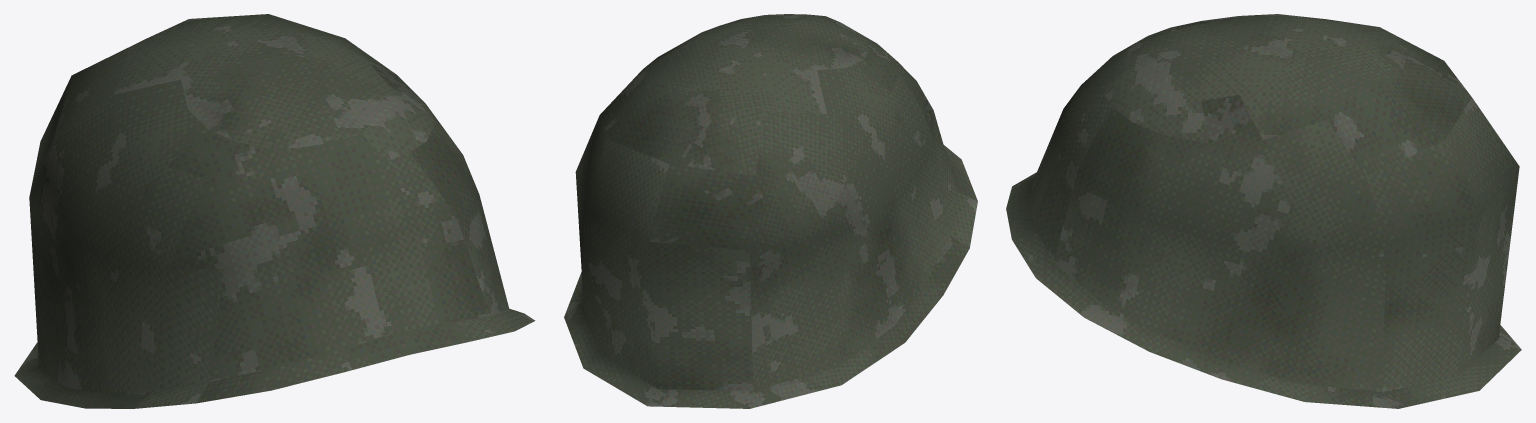
The model's file is helmet.glb.
3 views of the same model, side by side, from view 1: azimuth 30°, elevation 25°; view 2: azimuth 150°, elevation 25°; view 3: azimuth 270°, elevation 25° (orthographic). The views are drawn at different scales.
Visible parts, largest first — view 1: helmet_ground; view 2: helmet_ground; view 3: helmet_ground.
Part boxes in pixels (x1=…): helmet_ground: x1=14, y1=14, x2=535, y2=408; helmet_ground: x1=564, y1=14, x2=977, y2=408; helmet_ground: x1=1006, y1=14, x2=1521, y2=408.
Size of the model in its own units: 0.214 by 0.1795 by 0.2652.
1 material, 1 textured.
